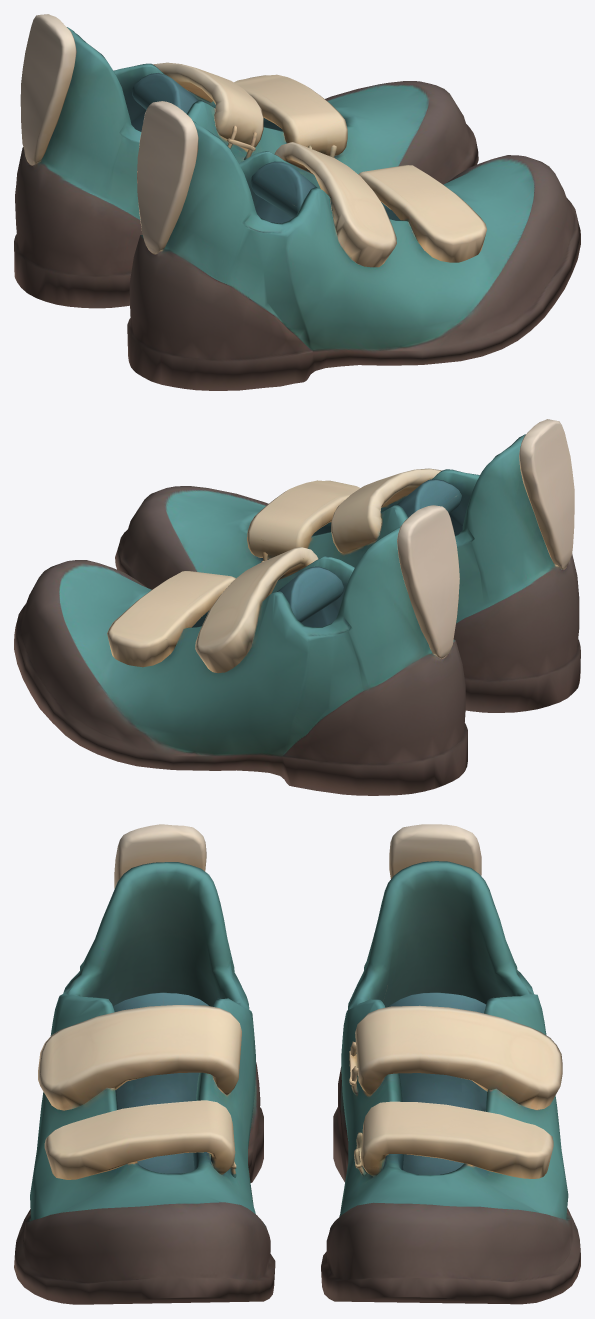
File: shoes_teal_pair.glb
3 views of the same model, one above another, from view 1: azimuth 30°, elevation 25°; view 2: azimuth 150°, elevation 25°; view 3: azimuth 270°, elevation 25° (orthographic). The views are drawn at different scales.
Parts seen in each view (by area): view 1: tripo_node_30c5164c-d6e4-4cb4-b07f-0ae6915a5159; view 2: tripo_node_30c5164c-d6e4-4cb4-b07f-0ae6915a5159; view 3: tripo_node_30c5164c-d6e4-4cb4-b07f-0ae6915a5159.
Boxes of the visible parts, bbox=[...] form: tripo_node_30c5164c-d6e4-4cb4-b07f-0ae6915a5159: bbox=[14, 14, 580, 390]; tripo_node_30c5164c-d6e4-4cb4-b07f-0ae6915a5159: bbox=[14, 419, 580, 795]; tripo_node_30c5164c-d6e4-4cb4-b07f-0ae6915a5159: bbox=[14, 824, 580, 1304].
Bounding box in the file's own units: 0.998 × 0.5723 × 0.9707.
1 material, 1 textured.
